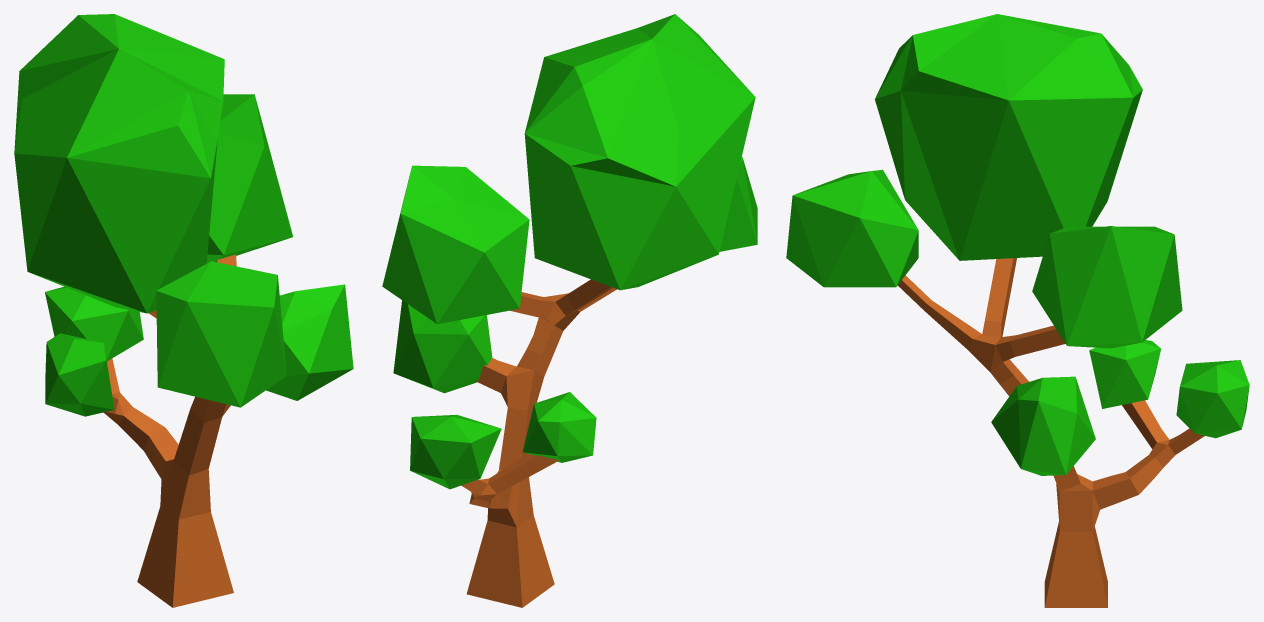
Rendered from dtree3C(F423).obj.
3 views of the same model, side by side, from view 1: azimuth 30°, elevation 25°; view 2: azimuth 150°, elevation 25°; view 3: azimuth 270°, elevation 25° (orthographic). The views are drawn at different scales.
Visible parts, largest first — view 1: Icosphere.093, Icosphere.094, Cube.023, Icosphere.092, Icosphere.095, Icosphere.090, Icosphere.091; view 2: Icosphere.093, Icosphere.092, Cube.023, Icosphere.095, Icosphere.091, Icosphere.090, Icosphere.094; view 3: Icosphere.093, Cube.023, Icosphere.092, Icosphere.094, Icosphere.095, Icosphere.091, Icosphere.090.
Part boxes in pixels (x1,y1,x2,y2): Icosphere.093: [14, 14, 224, 313]; Icosphere.094: [156, 261, 286, 407]; Cube.023: [103, 254, 236, 607]; Icosphere.092: [206, 94, 292, 263]; Icosphere.095: [266, 284, 353, 400]; Icosphere.090: [45, 333, 114, 416]; Icosphere.091: [45, 286, 143, 361]; Icosphere.093: [524, 14, 755, 290]; Icosphere.092: [382, 165, 529, 324]; Cube.023: [461, 279, 616, 607]; Icosphere.095: [393, 300, 492, 393]; Icosphere.091: [410, 415, 501, 489]; Icosphere.090: [522, 392, 596, 462]; Icosphere.094: [719, 157, 757, 251]; Icosphere.093: [875, 14, 1142, 260]; Cube.023: [898, 258, 1204, 607]; Icosphere.092: [1032, 226, 1182, 348]; Icosphere.094: [786, 169, 918, 287]; Icosphere.095: [991, 376, 1095, 475]; Icosphere.091: [1176, 360, 1249, 438]; Icosphere.090: [1089, 340, 1160, 408].
Bounding box in the file's own units: 1.42 × 2.44 × 1.92.
